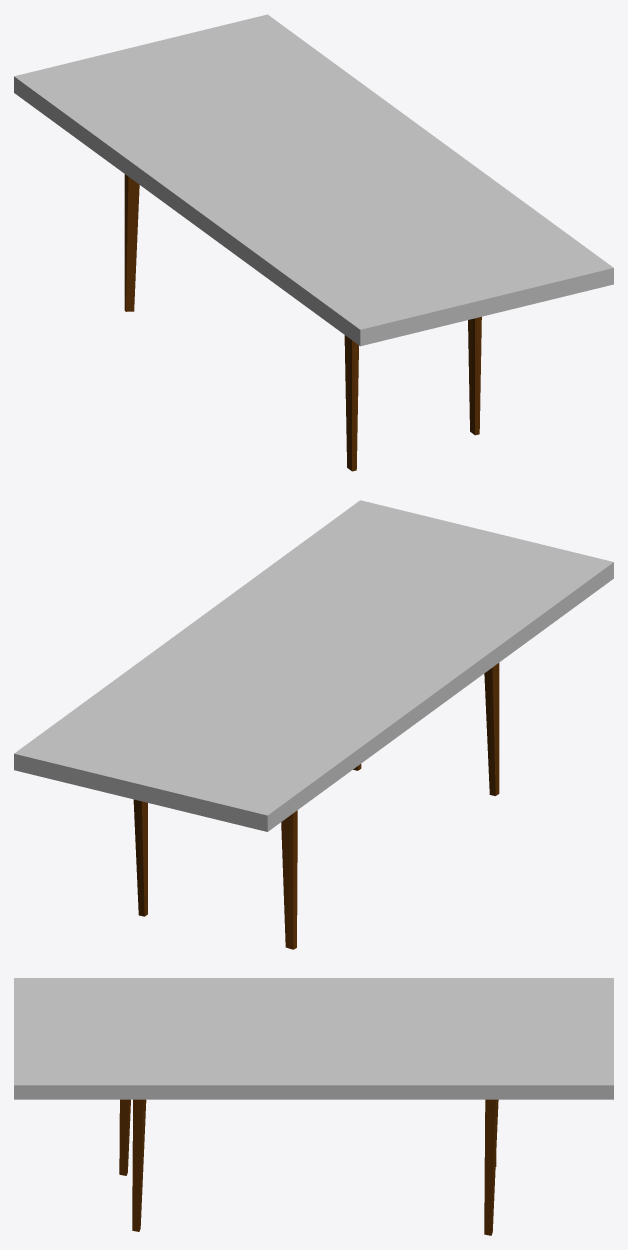
The model's file is BigTable.obj.
3 renders of one model, top to bottom at view 1: azimuth 30°, elevation 25°; view 2: azimuth 150°, elevation 25°; view 3: azimuth 270°, elevation 25°, orthographic. The views are drawn at different scales.
Parts seen in each view (by area): view 1: Cube.009_, Cube.009_NORMAL; view 2: Cube.009_, Cube.009_NORMAL; view 3: Cube.009_, Cube.009_NORMAL.
Boxes of the visible parts, x1,y1,x2,y2 form: Cube.009_: (14,14,613,346); Cube.009_NORMAL: (124,174,481,471); Cube.009_: (14,500,613,831); Cube.009_NORMAL: (133,663,499,949); Cube.009_: (14,978,613,1099); Cube.009_NORMAL: (119,1099,498,1235).
Bounding box in the file's own units: 2.87 × 2.17 × 6.78.
